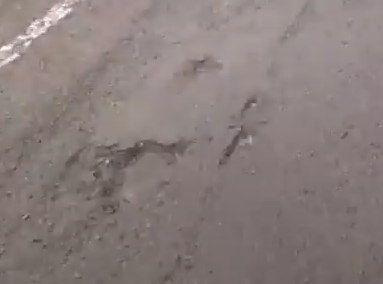Berlubang: (1, 140, 133, 284), (53, 133, 197, 186), (45, 67, 108, 132), (220, 96, 267, 170), (166, 51, 229, 86), (164, 229, 204, 284), (277, 1, 318, 46)
